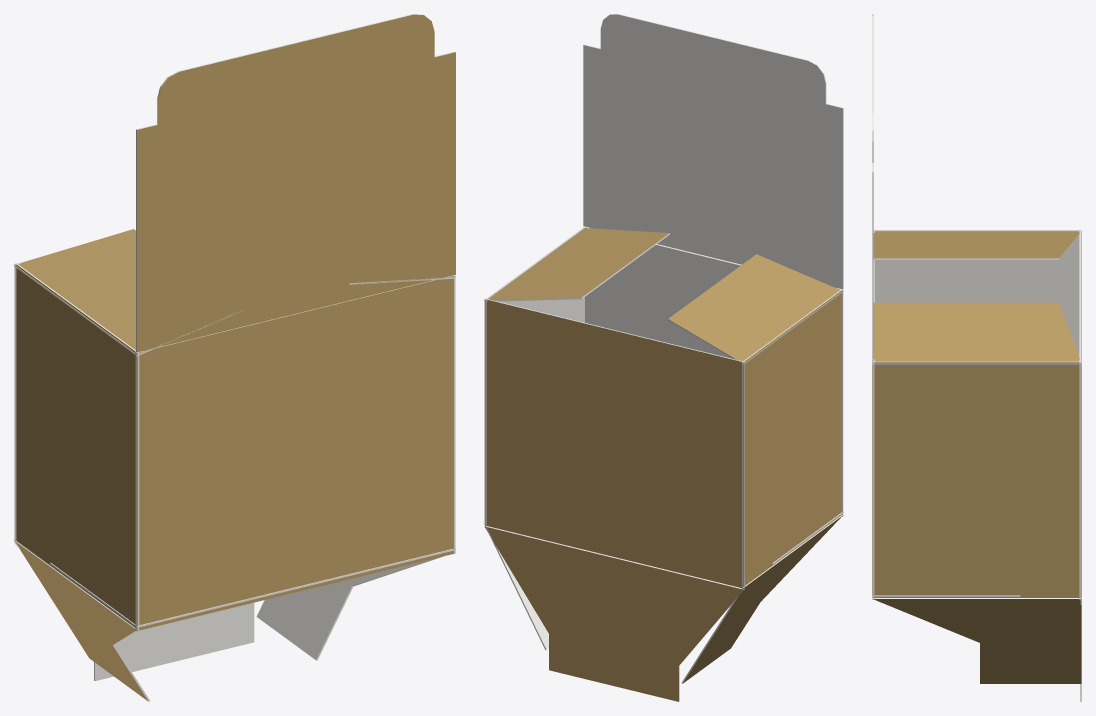
3 views of the same model, side by side, from view 1: azimuth 30°, elevation 25°; view 2: azimuth 150°, elevation 25°; view 3: azimuth 270°, elevation 25° (orthographic). The views are drawn at different scales.
Visible parts, largest first — view 1: Packive_Box_fefco0215; view 2: Packive_Box_fefco0215; view 3: Packive_Box_fefco0215.
Part boxes in pixels (<box>): Packive_Box_fefco0215: <box>14,14,455,701</box>; Packive_Box_fefco0215: <box>484,14,843,701</box>; Packive_Box_fefco0215: <box>872,14,1081,701</box>.
Size of the model in its own units: 0.3 by 0.636 by 0.2.
26 materials, 13 textured.
